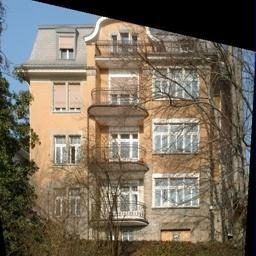building: (26, 15, 234, 251)
